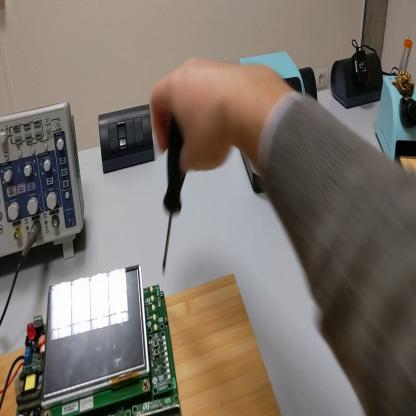hand: (150, 57, 244, 176)
low voltage board: (1, 264, 182, 416)
oscilloscope: (2, 102, 86, 262)
screwdriver-: (162, 123, 184, 286)
socket: (332, 53, 385, 109), (300, 70, 318, 102)
welder base: (378, 74, 415, 173)
welder station: (242, 56, 308, 194)
working area: (1, 273, 281, 416)
